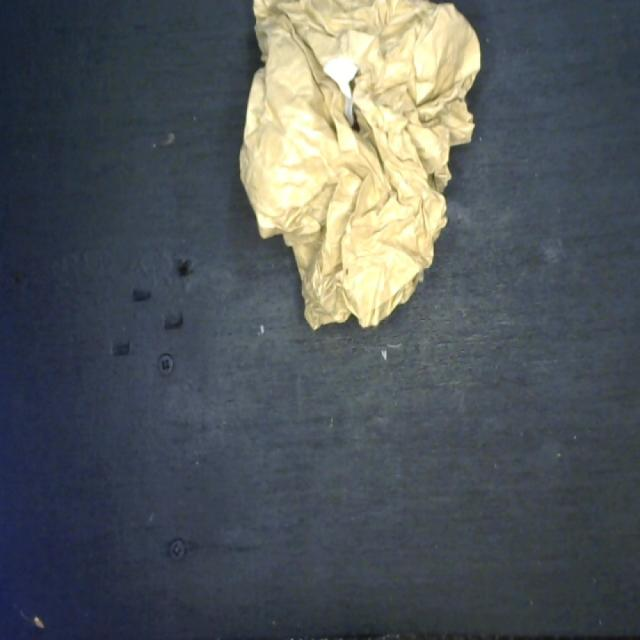biodegradable: (233, 0, 485, 336)
